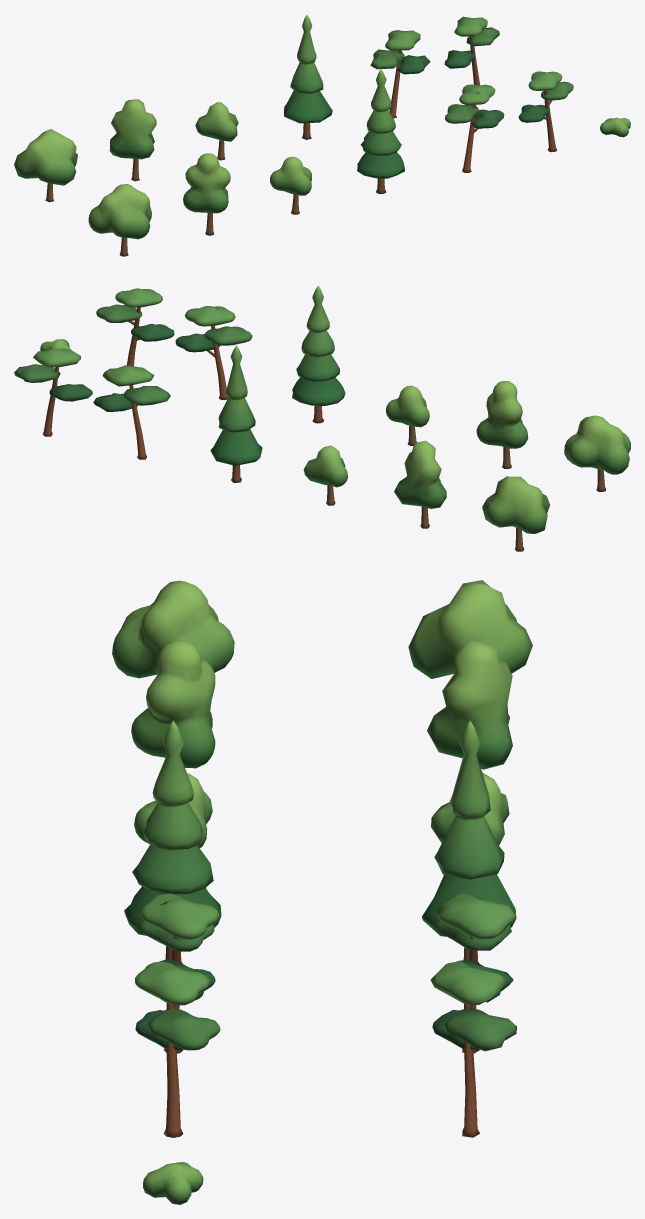
Rendered from kit.glb.
3 renders of one model, top to bottom at view 1: azimuth 30°, elevation 25°; view 2: azimuth 150°, elevation 25°; view 3: azimuth 270°, elevation 25°, orthographic. The views are drawn at different scales.
Visible parts, largest first — view 1: TREE_meta, TREE_meta_lo, TREE_round_a, TREE_round_a_lo, TREE_round_b, TREE_round_b_lo, TREE_pine_a, TREE_pine_a_lo, TREE_pine_b, TREE_pine_b_lo, TREE_round_c, TREE_round_c_lo (+1 smaller); view 2: TREE_meta, TREE_meta_lo, TREE_round_a, TREE_round_a_lo, TREE_round_b, TREE_round_b_lo, TREE_pine_a, TREE_pine_a_lo, TREE_pine_b_lo, TREE_pine_b, TREE_round_c_lo, TREE_round_c; view 3: TREE_meta, TREE_meta_lo, TREE_round_b_lo, TREE_round_b, TREE_round_a, TREE_round_a_lo, TREE_pine_b, TREE_pine_b_lo, TREE_pine_a, TREE_pine_a_lo, BUSH_a, TREE_round_c_lo (+1 smaller).
Boxes of the visible parts, x1,y1,x2,y2 form: TREE_meta: (357,69,404,193); TREE_meta_lo: (284,15,332,139); TREE_round_a: (88,184,151,256); TREE_round_a_lo: (14,129,77,202); TREE_round_b: (183,153,230,235); TREE_round_b_lo: (109,99,156,181); TREE_pine_a: (445,84,504,172); TREE_pine_a_lo: (370,30,430,118); TREE_pine_b: (518,71,573,152); TREE_pine_b_lo: (444,16,499,85); TREE_round_c: (270,156,311,214); TREE_round_c_lo: (195,102,238,160); TREE_meta: (292,285,345,423); TREE_meta_lo: (210,345,262,482); TREE_round_a: (564,415,630,491); TREE_round_a_lo: (482,476,549,551); TREE_round_b: (476,381,528,468); TREE_round_b_lo: (394,440,446,528); TREE_pine_a: (175,306,252,399); TREE_pine_a_lo: (93,365,170,459); TREE_pine_b_lo: (14,348,92,436); TREE_pine_b: (96,288,174,366); TREE_round_c_lo: (303,445,347,505); TREE_round_c: (386,385,429,445); TREE_meta: (124,720,221,963); TREE_meta_lo: (422,720,516,963); TREE_round_b_lo: (427,641,512,769); TREE_round_b: (131,640,215,768); TREE_round_a: (112,580,234,678); TREE_round_a_lo: (408,580,532,678); TREE_pine_b: (135,961,220,1137); TREE_pine_b_lo: (430,961,516,1137); TREE_pine_a: (140,893,219,1053); TREE_pine_a_lo: (435,893,516,1053); BUSH_a: (143,1162,203,1204); TREE_round_c_lo: (431,772,509,845).
Size of the model in its own units: 25.04 by 5.5 by 8.51.
